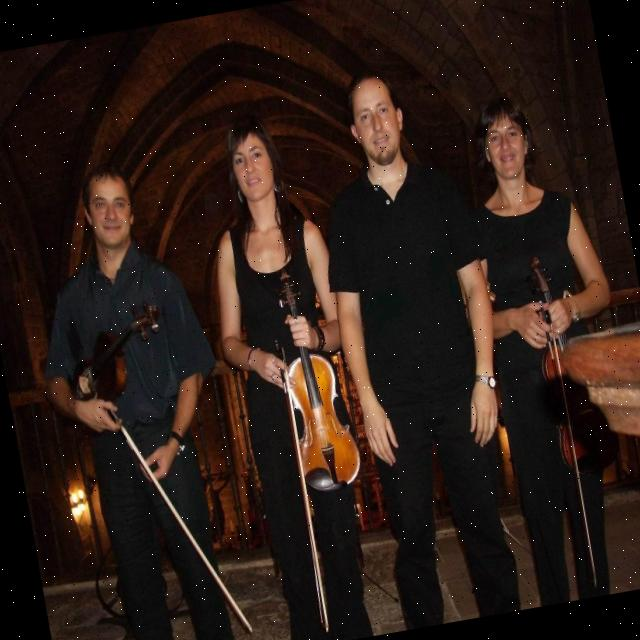violin: (260, 265, 369, 499), (521, 247, 628, 478), (58, 296, 178, 410)
